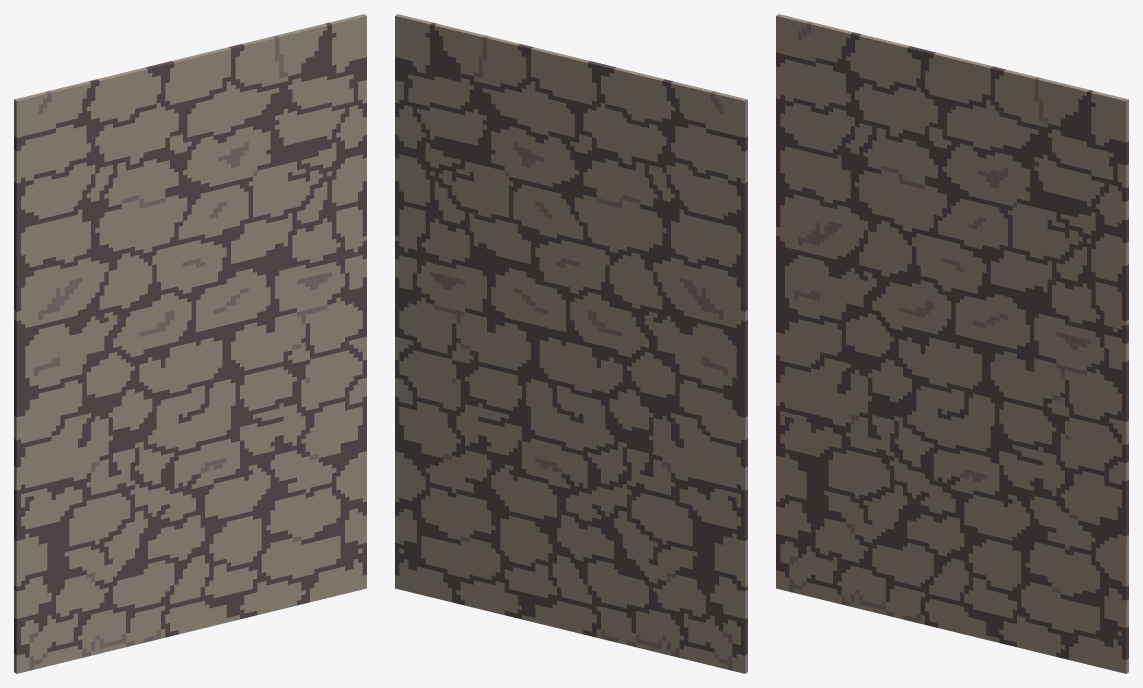
The model's file is paredMarron.obj.
3 renders of one model, left to right at view 1: azimuth 30°, elevation 25°; view 2: azimuth 150°, elevation 25°; view 3: azimuth 330°, elevation 25°, orthographic.
Bounding box in the file's own units: 8 × 12.5 × 0.1.
Materials: 1 (1 with a texture image).
